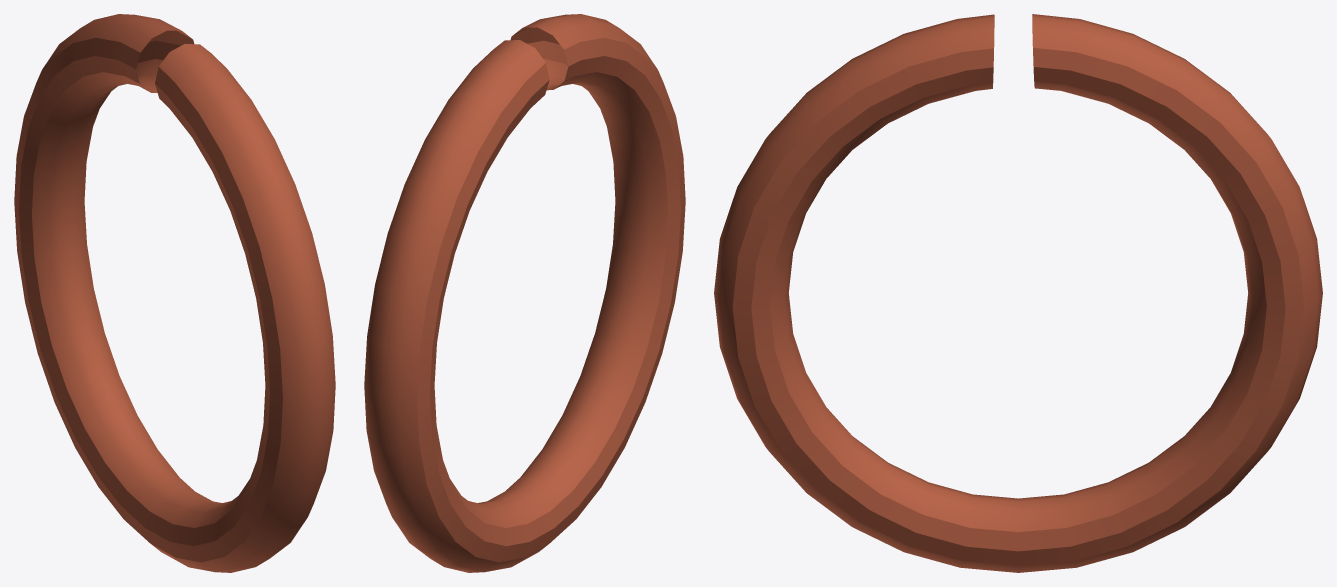
The model's file is habbat.fbx.
The picture shows the model from 3 angles, left to right: view 1: azimuth 30°, elevation 25°; view 2: azimuth 150°, elevation 25°; view 3: azimuth 270°, elevation 25°; orthographic projection. The views are drawn at different scales.
Visible parts, largest first — view 1: Circle; view 2: Circle; view 3: Circle.
Boxes of the visible parts, x1,y1,x2,y2 form: Circle: [14, 14, 335, 572]; Circle: [364, 14, 685, 572]; Circle: [714, 14, 1322, 572].
Size of the model in its own units: 23.09 by 180 by 180.
